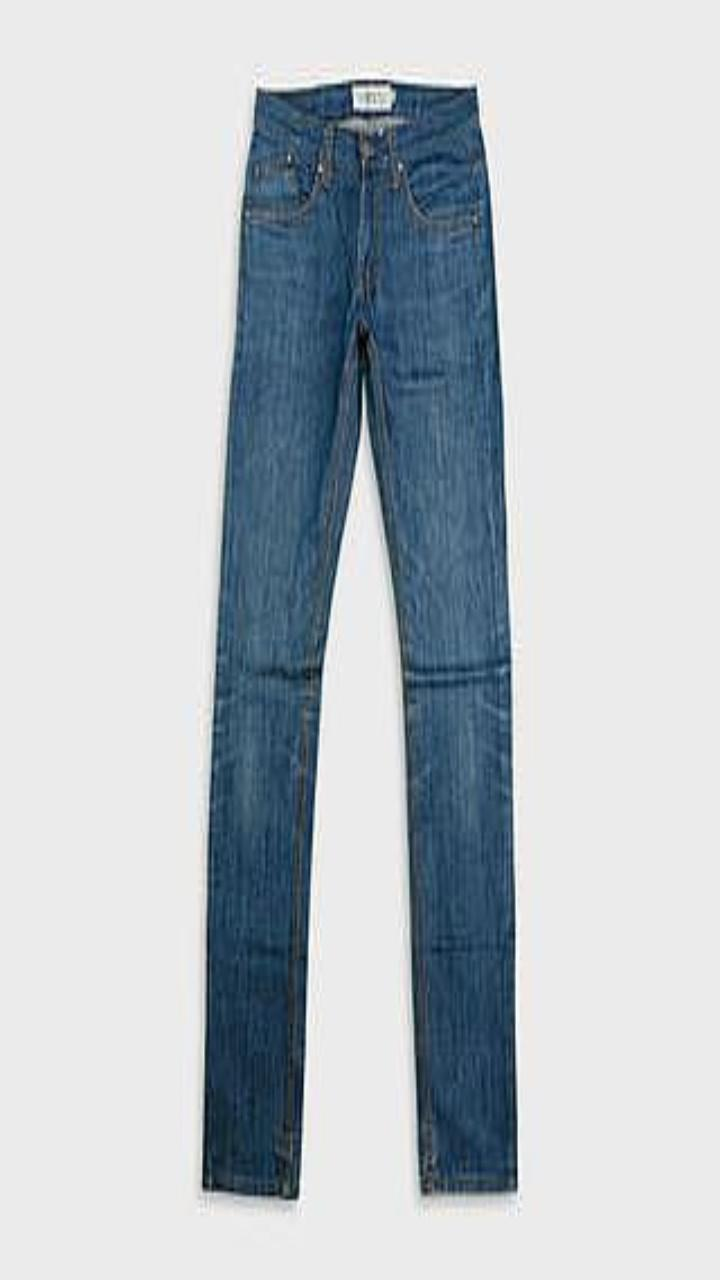Jeans: (203, 82, 516, 1197)
